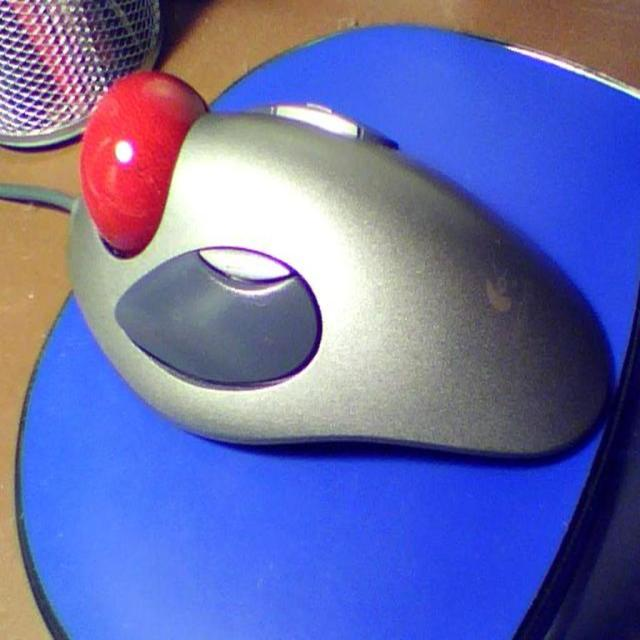Ball: (77, 69, 209, 262)
